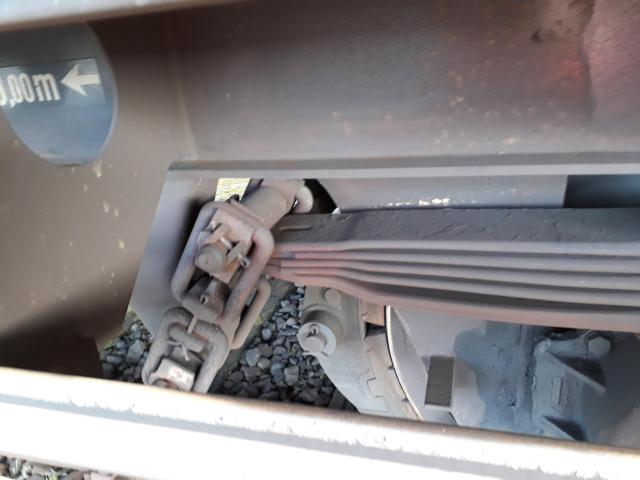blattfederww: (286, 210, 640, 329)
